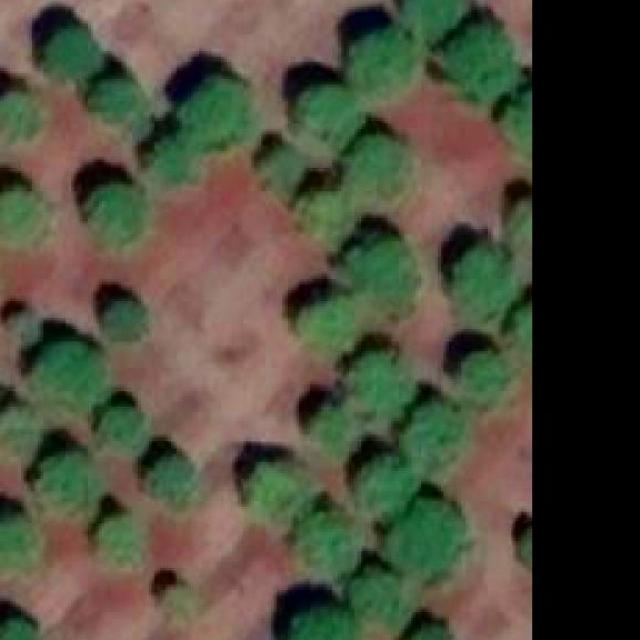Tree: (386, 495, 466, 579), (438, 26, 521, 101), (349, 32, 421, 104), (291, 504, 361, 576), (177, 77, 252, 143), (347, 237, 413, 312), (341, 135, 411, 201), (29, 338, 104, 399), (451, 249, 516, 319), (404, 401, 466, 473), (351, 348, 405, 423), (352, 457, 419, 510), (38, 451, 96, 510), (243, 460, 299, 519), (302, 90, 363, 143), (90, 184, 143, 243), (296, 296, 356, 346), (47, 25, 102, 79), (140, 453, 193, 507), (352, 573, 411, 621), (144, 137, 202, 185), (93, 512, 141, 566), (90, 79, 143, 127), (0, 187, 46, 242), (299, 196, 352, 240), (102, 401, 147, 451), (286, 612, 364, 640), (99, 296, 147, 340), (460, 349, 502, 399), (407, 0, 466, 34), (260, 146, 302, 193), (0, 94, 38, 144), (0, 516, 41, 560), (312, 407, 354, 449), (0, 404, 38, 444), (5, 310, 41, 347), (0, 618, 43, 640), (404, 623, 449, 640), (166, 582, 191, 608)
